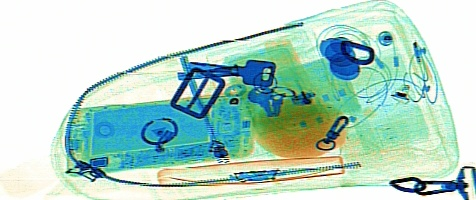lighter: (263, 36, 316, 107)
